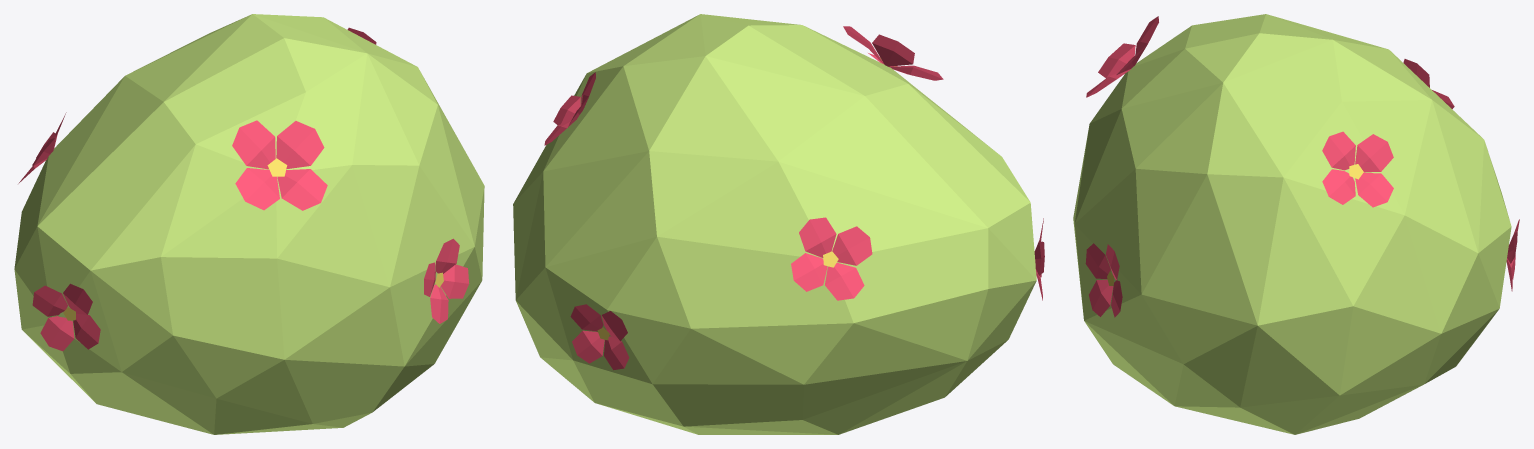
The model's file is FlowerBush_f_m_05.fbx.
3 views of the same model, side by side, from view 1: azimuth 30°, elevation 25°; view 2: azimuth 150°, elevation 25°; view 3: azimuth 270°, elevation 25° (orthographic). The views are drawn at different scales.
Parts seen in each view (by area): view 1: FlowerBush_f_m_05_LOD0; view 2: FlowerBush_f_m_05_LOD0; view 3: FlowerBush_f_m_05_LOD0.
Boxes of the visible parts, left/top/right/bottom form: FlowerBush_f_m_05_LOD0: left=14, top=14, right=484, bottom=434; FlowerBush_f_m_05_LOD0: left=513, top=14, right=1044, bottom=434; FlowerBush_f_m_05_LOD0: left=1073, top=14, right=1519, bottom=434.
Size of what is drawn, in the model's own units: 197 by 149 by 162.
